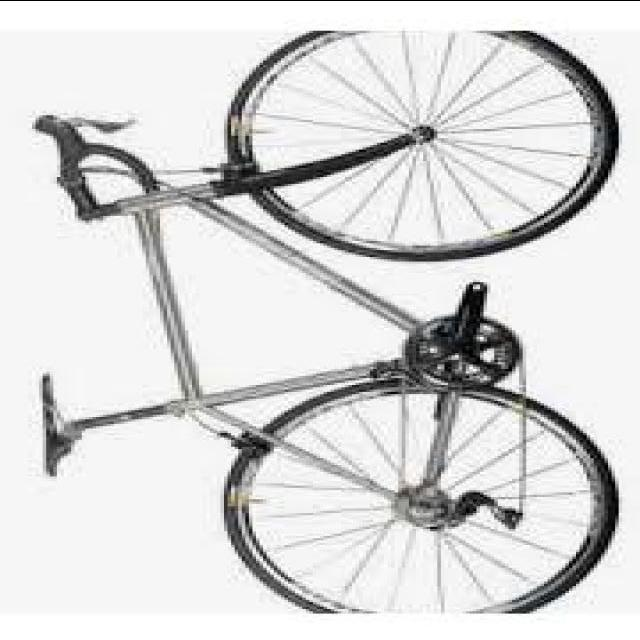bicycle: (19, 24, 609, 620)
